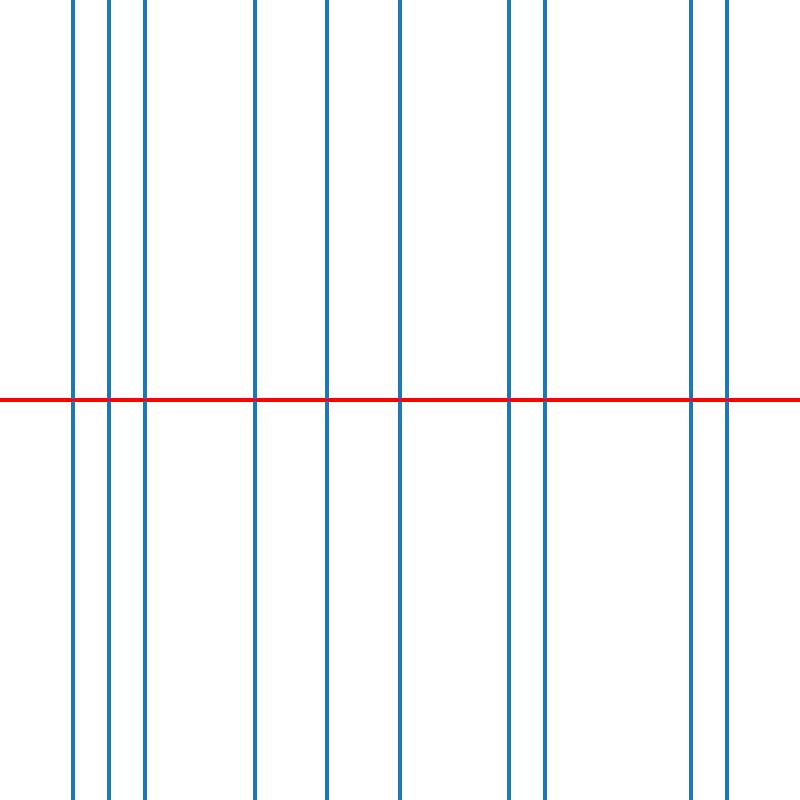root: (541, 396, 549, 404), (141, 396, 149, 404), (250, 396, 258, 404), (69, 396, 76, 404), (723, 396, 730, 404), (105, 396, 112, 404), (323, 396, 330, 404), (396, 396, 403, 404), (687, 396, 694, 404), (505, 396, 512, 404)
